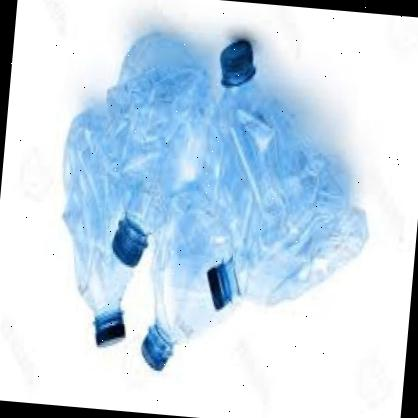bottle: (200, 147, 376, 332), (88, 32, 218, 278), (38, 103, 162, 359), (135, 184, 246, 384)
cap: (214, 33, 258, 84), (90, 314, 130, 354), (206, 270, 229, 314)
